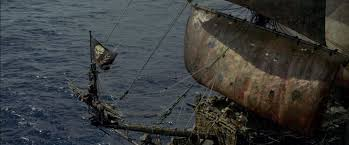Jolly Roger Flag: (89, 34, 120, 74)
